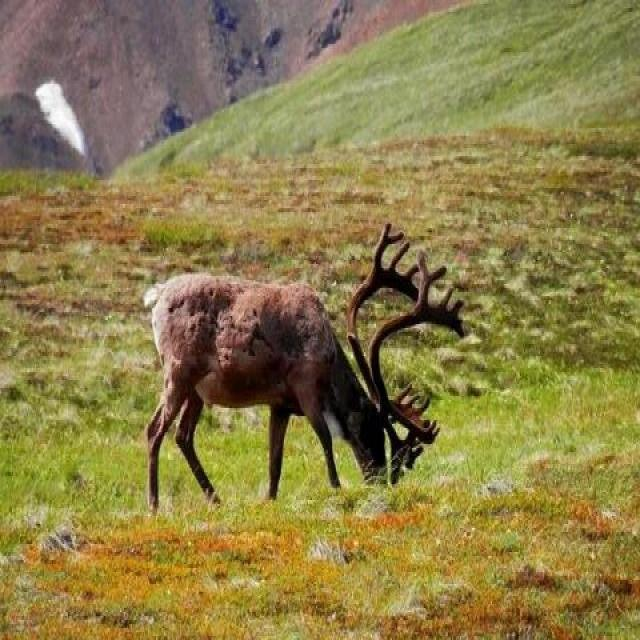deer: (140, 207, 503, 584)
